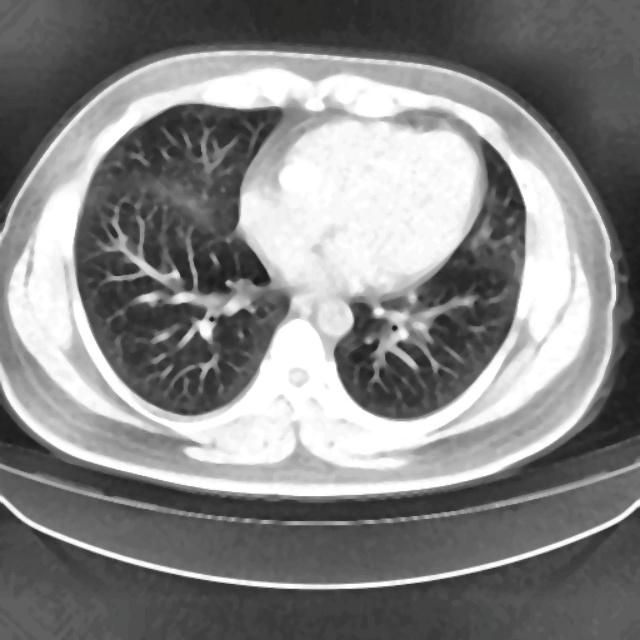covid: (1, 43, 629, 501)
